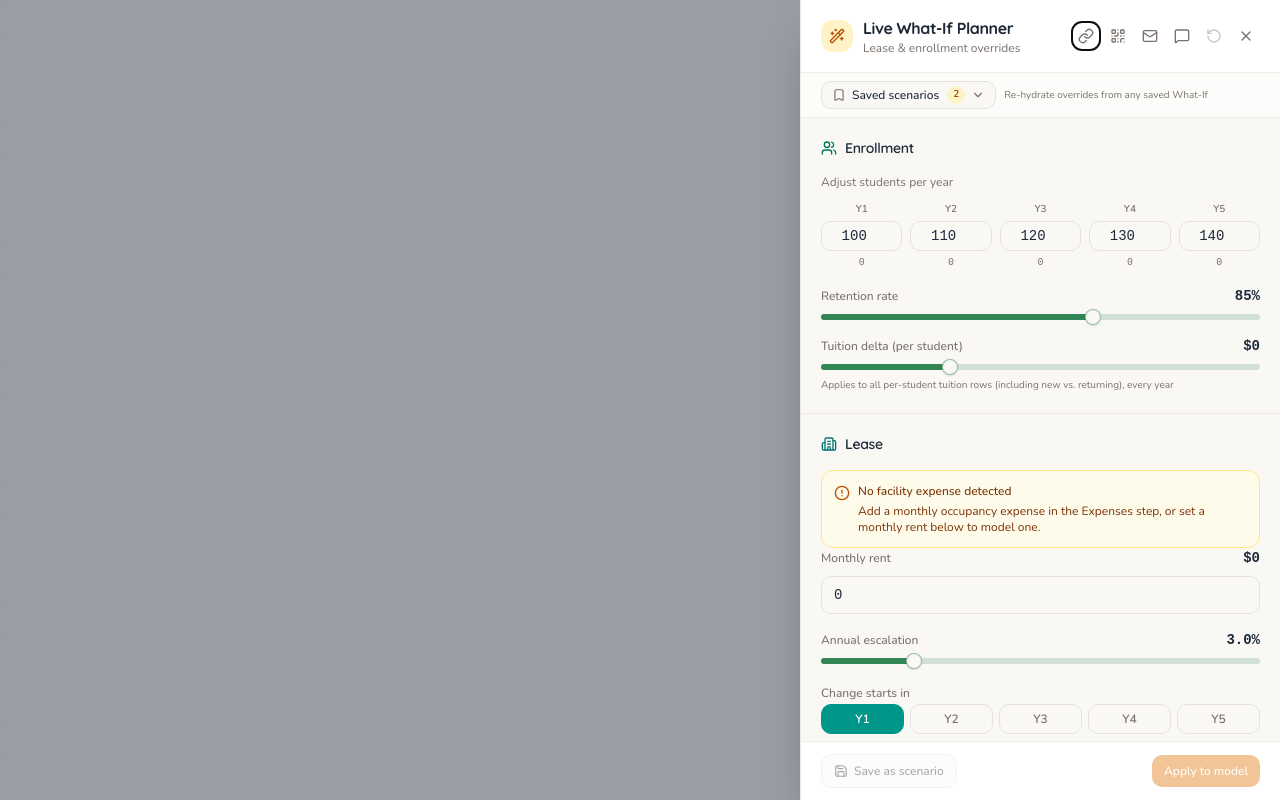
Test: WhatIfDrawer — saved scenarios picker › renders saved scenarios with their saved date and re-hydrates overrides on click
The width and height of the screenshot is (1280, 800).
Expected: the text with test id "whatif-saved-scenarios-count" reads "2", [953, 87, 959, 101]
Click the button with test id "whatif-saved-scenarios-trigger" at (909, 95), box [821, 81, 996, 109]
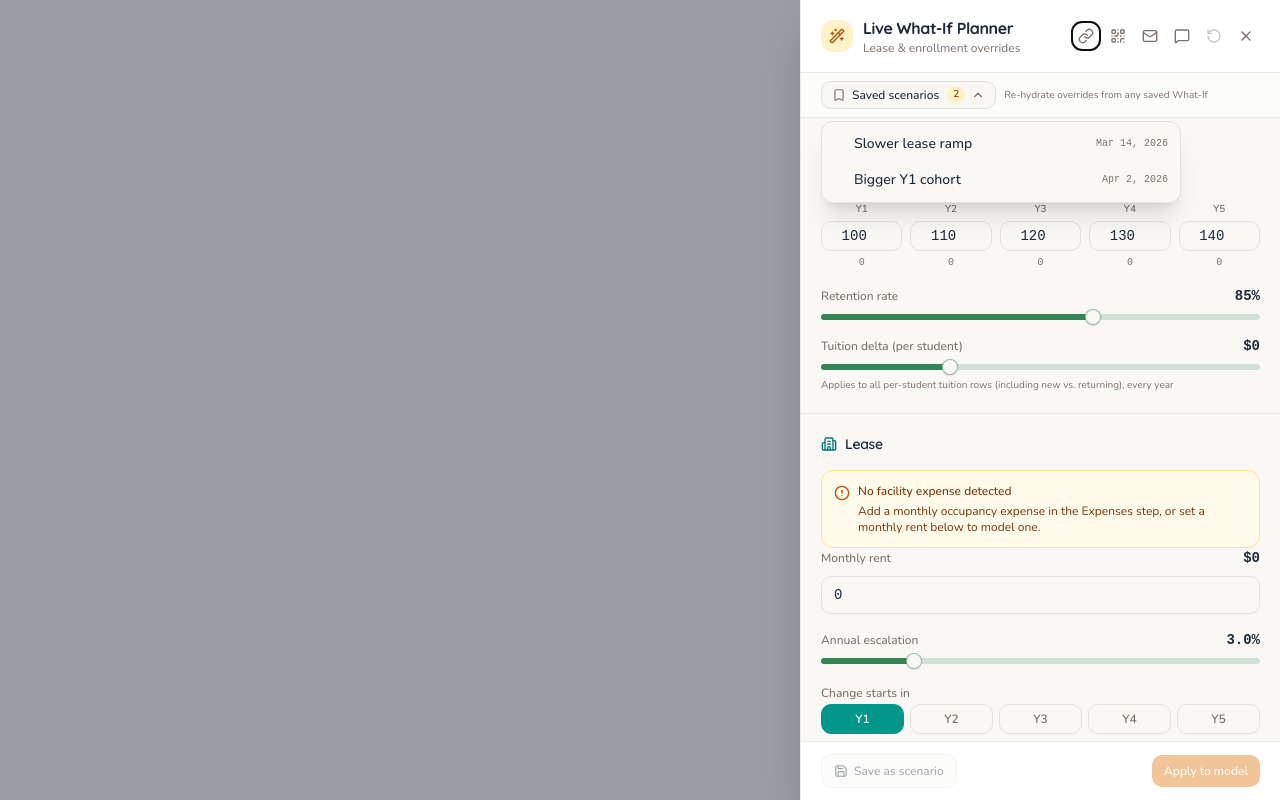
Expected: the list with test id "whatif-saved-scenarios-menu" shows "Slower lease ramp", [822, 126, 1180, 162]
Expected: the list with test id "whatif-saved-scenarios-menu" shows "Bigger Y1 cohort"
Expected: the list with test id "whatif-saved-scenarios-menu" shows "Mar 14, 2026", [822, 126, 1180, 162]
Click the option with test id "whatif-saved-scenario-1" at (907, 180), box [822, 162, 1180, 198]
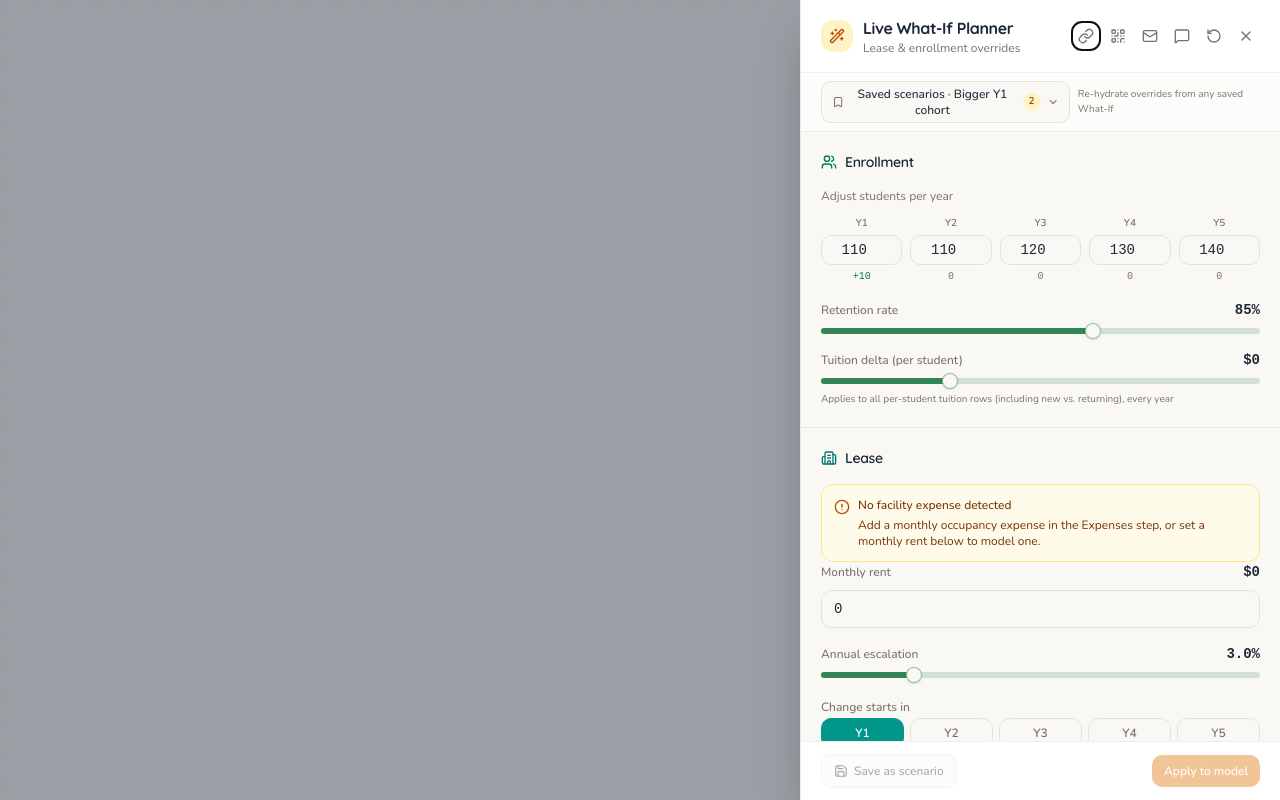
Expected: the number field with test id "whatif-enrollment-Y1" holds "110", [821, 235, 902, 265]
Expected: the list with test id "whatif-saved-scenarios-menu" is gone
